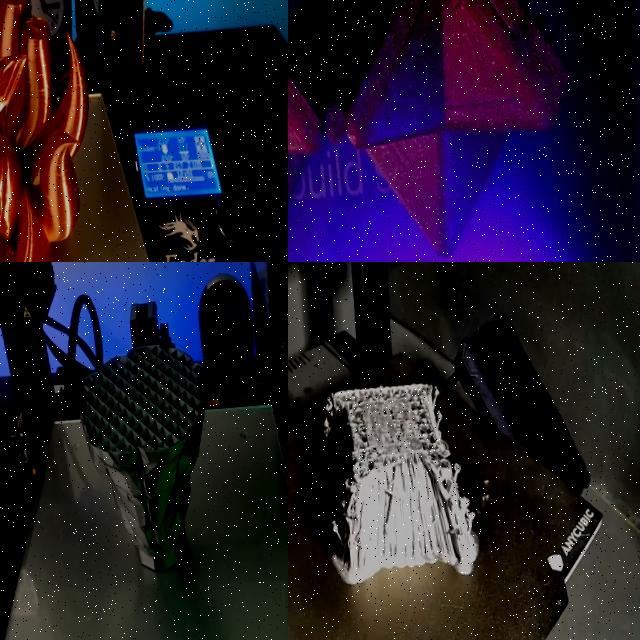spaghetti: (514, 0, 556, 50)
